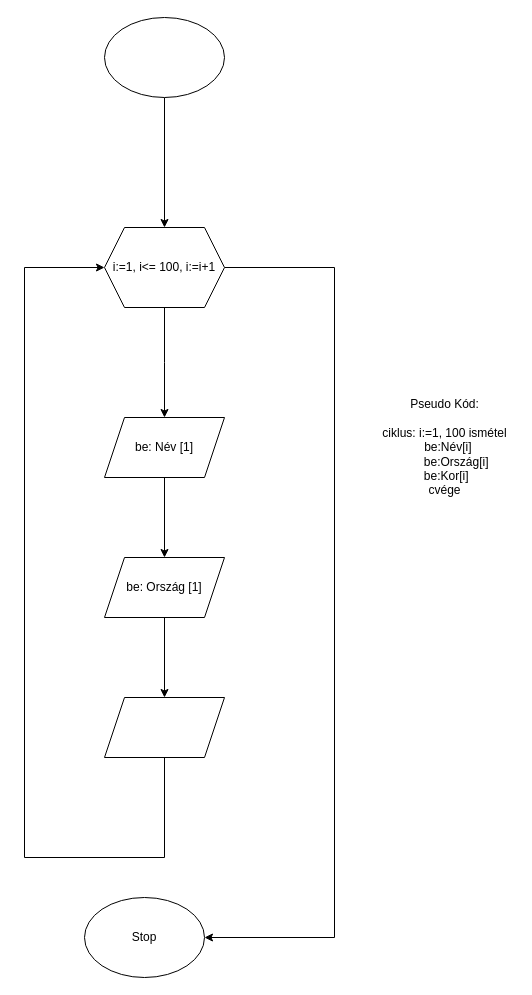
The diagram is 532 pixels wide and 995 high, and some of its shapes have lost their labels. The shapes that lost their labels are listed below. From the top down, each one's centre as x and y in pixels, then its label:
the point at 164,57: Start
the point at 164,727: be: Kor [1]
